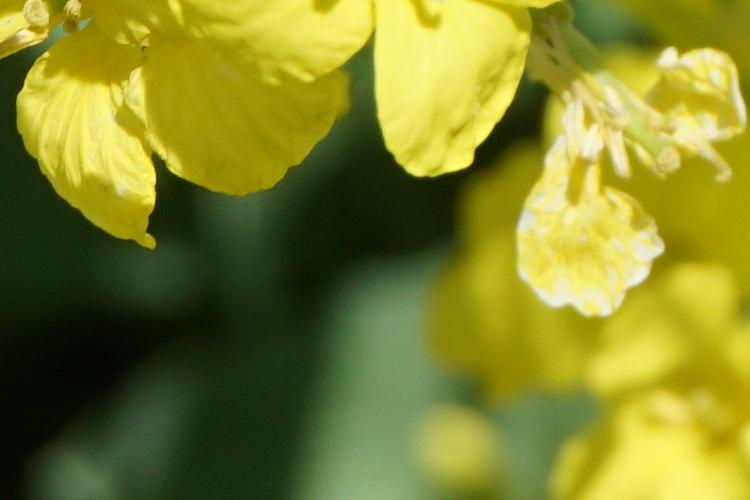yellow: (4, 3, 371, 241), (531, 32, 749, 343)
